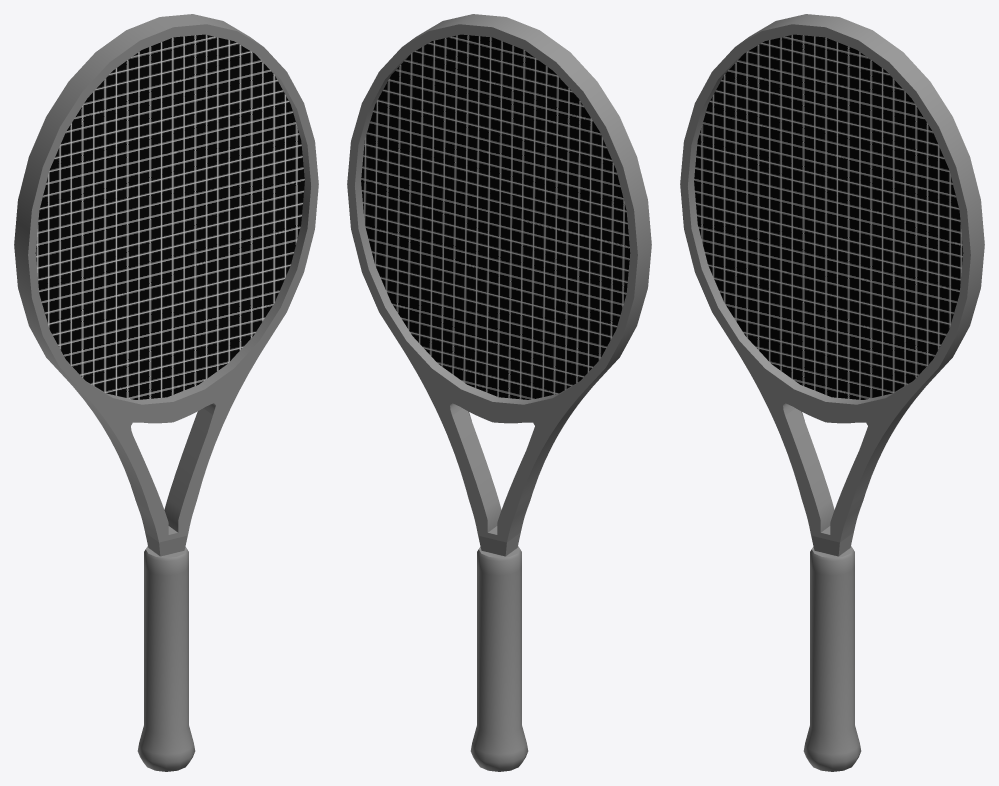
File: tennis_racket.FBX
3 views of the same model, side by side, from view 1: azimuth 30°, elevation 25°; view 2: azimuth 150°, elevation 25°; view 3: azimuth 330°, elevation 25° (orthographic).
Parts seen in each view (by area): view 1: tennis_racket; view 2: tennis_racket; view 3: tennis_racket.
Part boxes in pixels (x1,y1,x2,y2): tennis_racket: (14, 14, 318, 771); tennis_racket: (347, 14, 651, 771); tennis_racket: (680, 14, 984, 771).
Size of the model in its own units: 0.306 by 0.7445 by 0.0525.
